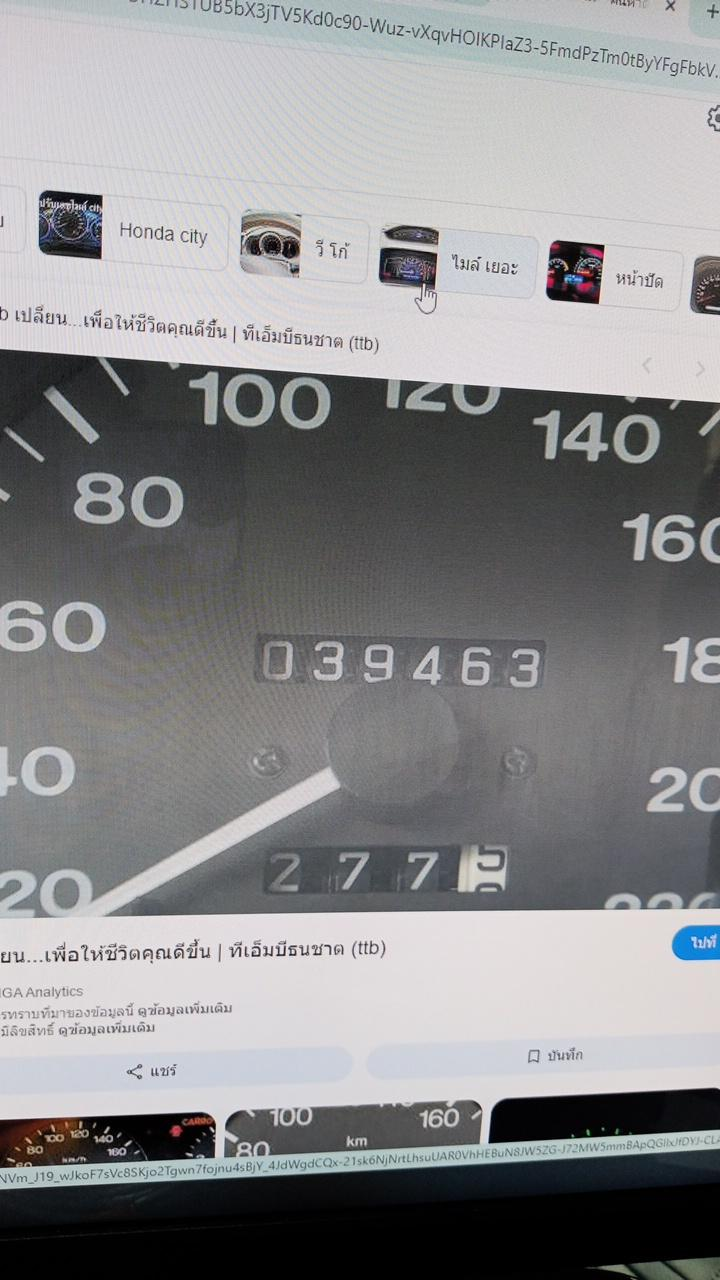0: (261, 638, 294, 682)
3: (311, 638, 346, 683), (508, 647, 541, 689)
4: (410, 643, 444, 686)
6: (459, 644, 493, 687)
9: (362, 642, 395, 685)
odometer: (250, 629, 547, 696)
